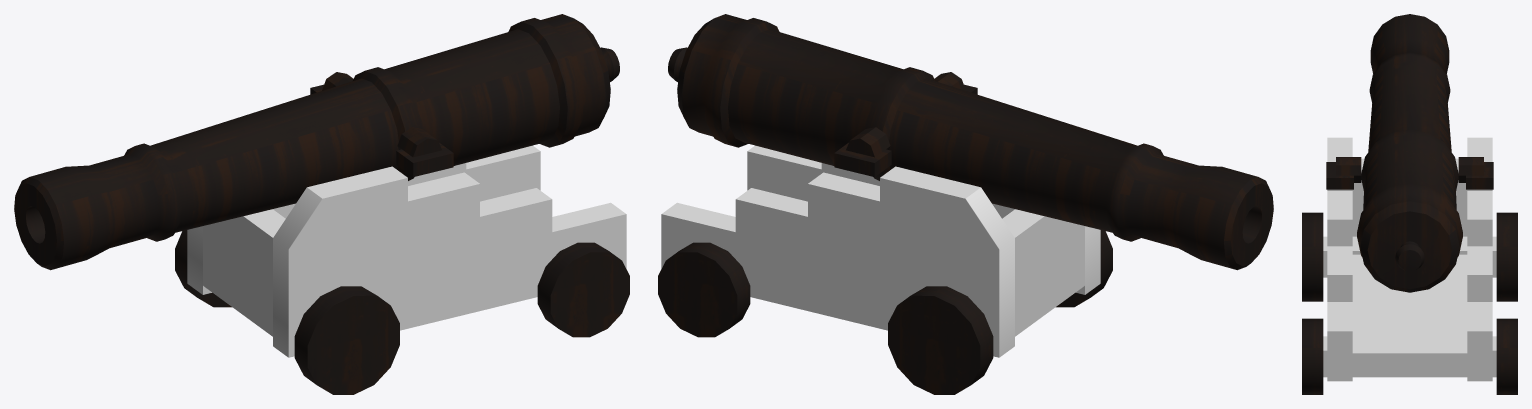
Rendered from SM_Morin_Cannone.fbx.
The picture shows the model from 3 angles, left to right: view 1: azimuth 30°, elevation 25°; view 2: azimuth 150°, elevation 25°; view 3: azimuth 270°, elevation 25°; orthographic projection. The views are drawn at different scales.
Visible parts, largest first — view 1: SM_Morin_Cannone; view 2: SM_Morin_Cannone; view 3: SM_Morin_Cannone.
Boxes of the visible parts, x1,y1,x2,y2 form: SM_Morin_Cannone: (14,14,629,394); SM_Morin_Cannone: (658,14,1273,394); SM_Morin_Cannone: (1302,14,1517,394).
Size of what is drawn, in the model's own units: 257 by 102 by 111.
Materials: 2 (1 with a texture image).
